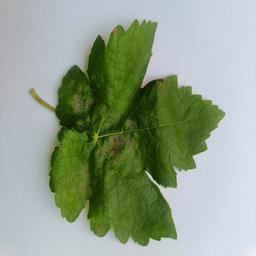Powdery-Mildew: (107, 122, 142, 157), (70, 160, 97, 193), (68, 83, 95, 114)
